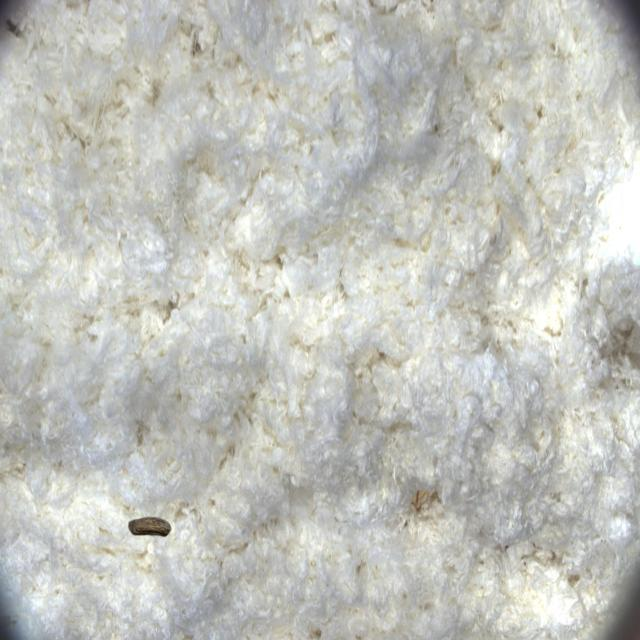dust: (110, 482, 186, 579)
